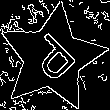P_SE: (21, 27, 83, 89)
